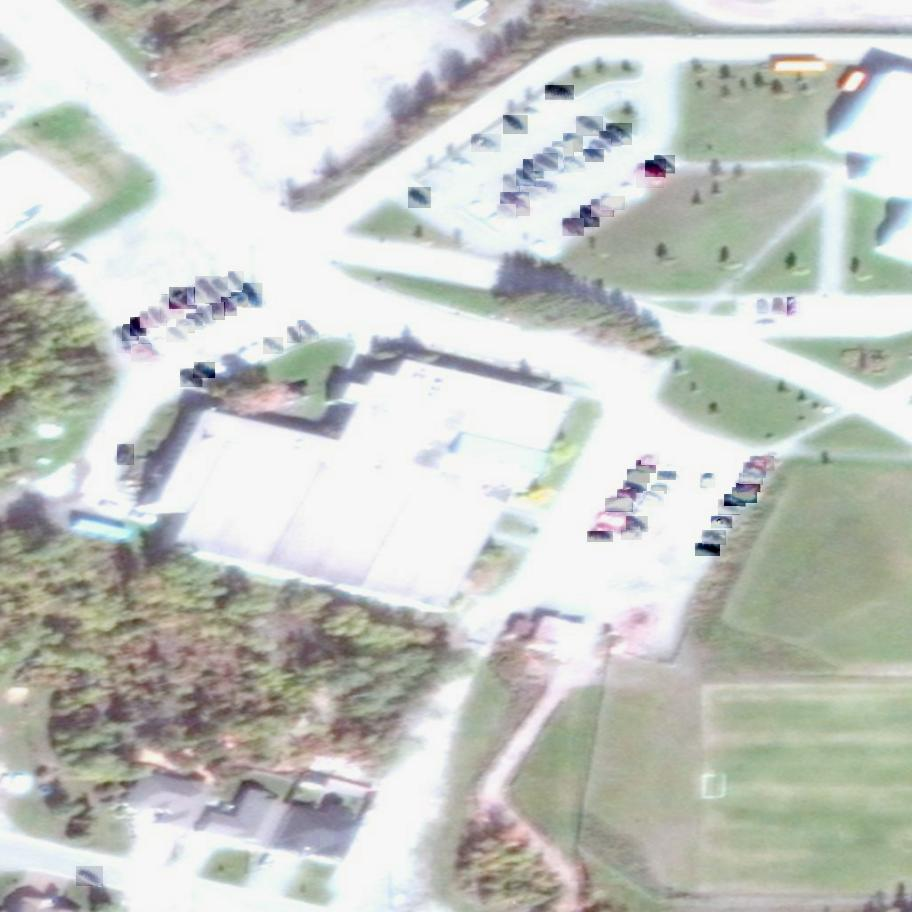small-vehicle: (637, 162, 665, 190), (195, 276, 221, 306), (501, 191, 530, 217), (169, 285, 197, 311), (606, 122, 633, 147), (471, 134, 501, 156), (139, 335, 163, 362), (576, 115, 603, 139), (242, 282, 264, 311), (504, 111, 528, 136), (76, 866, 104, 887), (162, 295, 184, 321), (409, 186, 432, 209), (654, 153, 676, 176), (552, 140, 574, 163), (297, 319, 319, 342), (572, 210, 593, 234), (589, 138, 611, 160), (131, 344, 153, 366), (591, 199, 614, 220), (181, 368, 204, 389), (534, 154, 558, 174), (546, 85, 574, 102), (563, 217, 585, 238), (524, 159, 545, 181), (139, 309, 159, 331), (581, 205, 600, 228), (604, 499, 634, 513), (218, 297, 237, 319), (167, 326, 189, 345), (743, 462, 766, 480), (117, 444, 135, 467), (117, 326, 132, 353), (564, 134, 584, 154), (732, 488, 757, 504), (600, 130, 621, 149), (516, 168, 537, 187), (213, 276, 232, 297), (719, 499, 741, 517), (149, 306, 167, 328), (626, 516, 649, 533), (565, 156, 585, 175), (498, 201, 517, 221), (187, 286, 206, 306), (503, 173, 521, 194), (263, 336, 284, 354), (195, 362, 216, 380), (750, 456, 775, 471), (131, 317, 148, 339), (229, 291, 248, 310), (646, 160, 666, 178), (187, 313, 205, 333), (702, 531, 726, 546), (644, 491, 665, 508), (228, 270, 245, 291), (197, 305, 213, 327), (695, 543, 720, 557), (624, 480, 647, 495), (544, 147, 563, 165), (601, 196, 625, 210), (123, 325, 141, 343), (176, 319, 195, 336), (524, 187, 547, 201), (628, 469, 651, 483), (588, 531, 613, 543), (711, 516, 733, 529), (724, 495, 746, 508), (211, 301, 225, 321), (584, 149, 604, 163), (618, 488, 638, 502), (636, 460, 656, 474), (701, 473, 716, 491), (739, 474, 763, 485), (288, 326, 301, 345), (536, 181, 556, 193), (621, 530, 641, 541), (787, 298, 799, 316), (736, 483, 760, 492), (641, 455, 659, 466), (659, 471, 677, 480), (652, 485, 667, 494), (774, 298, 783, 312), (758, 300, 767, 312)
